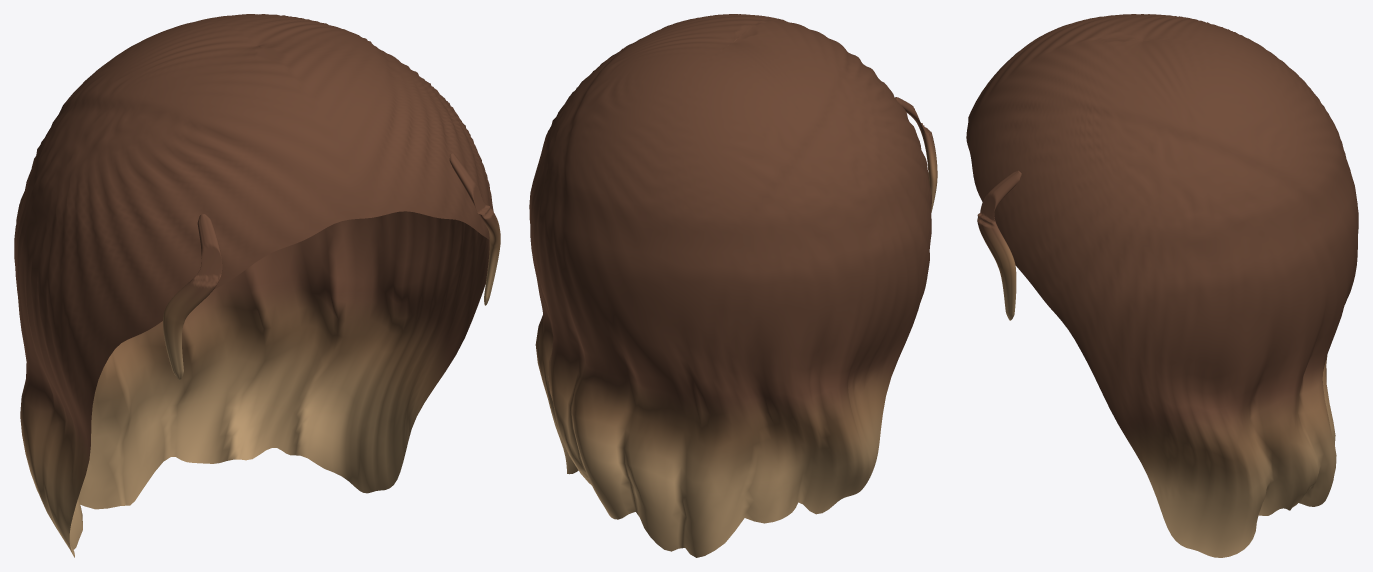
The model's file is space-buns-cowboy-ombre.glb.
3 views of the same model, side by side, from view 1: azimuth 30°, elevation 25°; view 2: azimuth 150°, elevation 25°; view 3: azimuth 270°, elevation 25° (orthographic). The views are drawn at different scales.
Visible parts, largest first — view 1: 226 hair / Hair / chestnut226.002; view 2: 226 hair / Hair / chestnut226.002; view 3: 226 hair / Hair / chestnut226.002.
Part boxes in pixels (<box>): 226 hair / Hair / chestnut226.002: <box>14,14,500,557</box>; 226 hair / Hair / chestnut226.002: <box>529,14,937,557</box>; 226 hair / Hair / chestnut226.002: <box>966,14,1358,557</box>.
Size of the model in its own units: 0.8048 by 0.9644 by 0.7316.
Materials: 1 (1 with a texture image).
